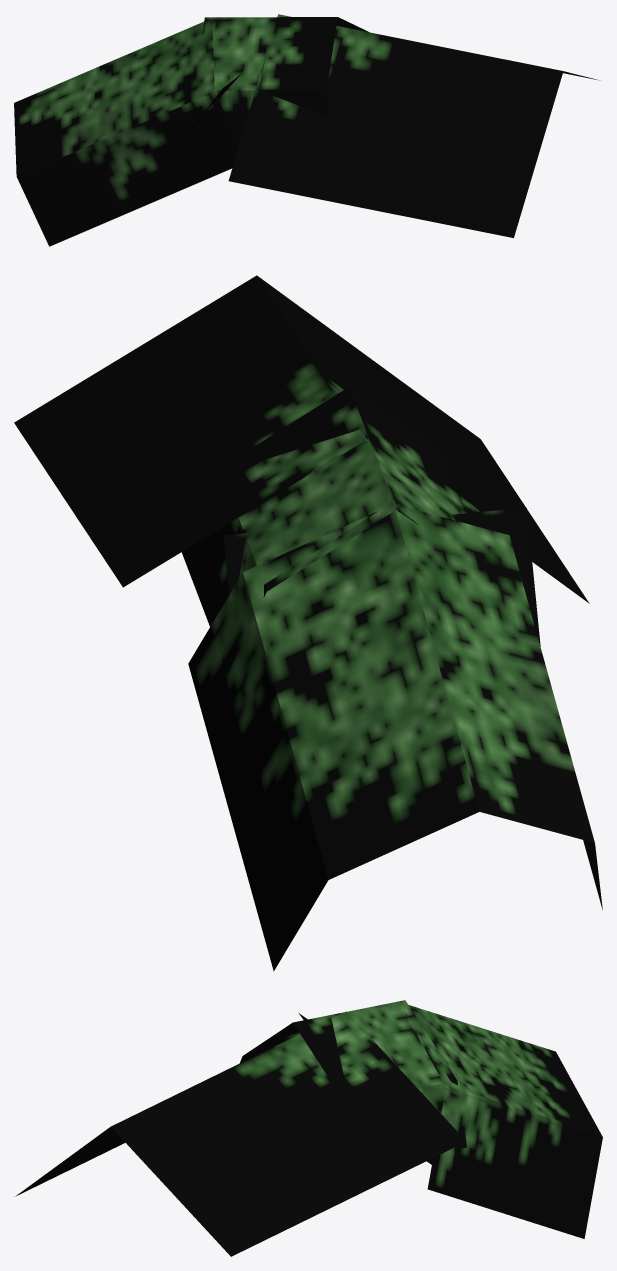
Rendered from spruce_leaves_slab_diagonal.obj.
The picture shows the model from 3 angles, top to bottom: view 1: azimuth 30°, elevation 25°; view 2: azimuth 150°, elevation 25°; view 3: azimuth 270°, elevation 25°; orthographic projection. The views are drawn at different scales.
Parts seen in each view (by area): view 1: plane; view 2: plane, cube; view 3: plane.
Part boxes in pixels (bbox=[...]): plane: bbox=[14, 14, 598, 246]; plane: bbox=[14, 275, 602, 971]; cube: bbox=[223, 508, 540, 646]; plane: bbox=[15, 1000, 602, 1256].
Bounding box in the file's own units: 2.74 × 1.34 × 2.73.
